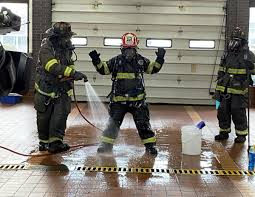emergent: (88, 31, 164, 152), (88, 31, 164, 151), (36, 18, 76, 147), (217, 28, 252, 141), (39, 21, 74, 133)
